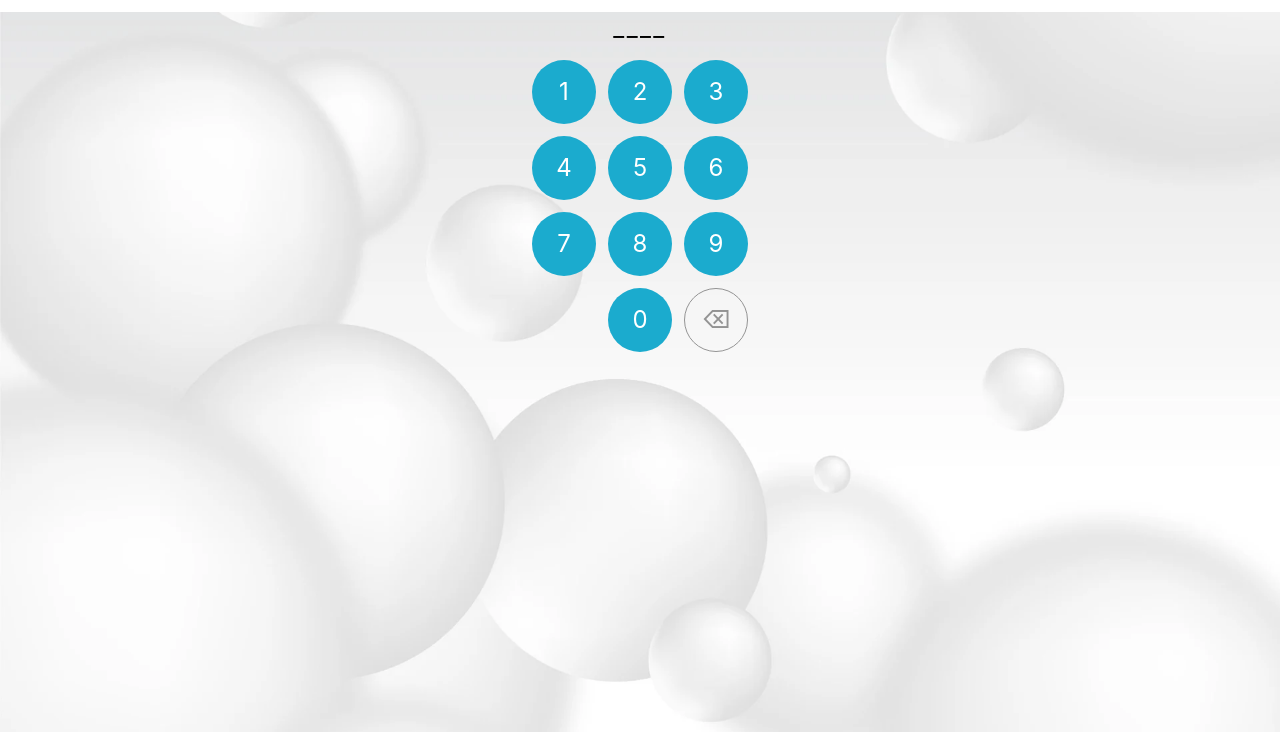
Scenario: PavePin › la touche Effacer est désactivée tant que rien n’est saisi
Check: the button named "Effacer" is disabled, box left=684, top=288, right=748, bottom=352
Click the button "1" at (564, 92), box left=532, top=60, right=596, bottom=124
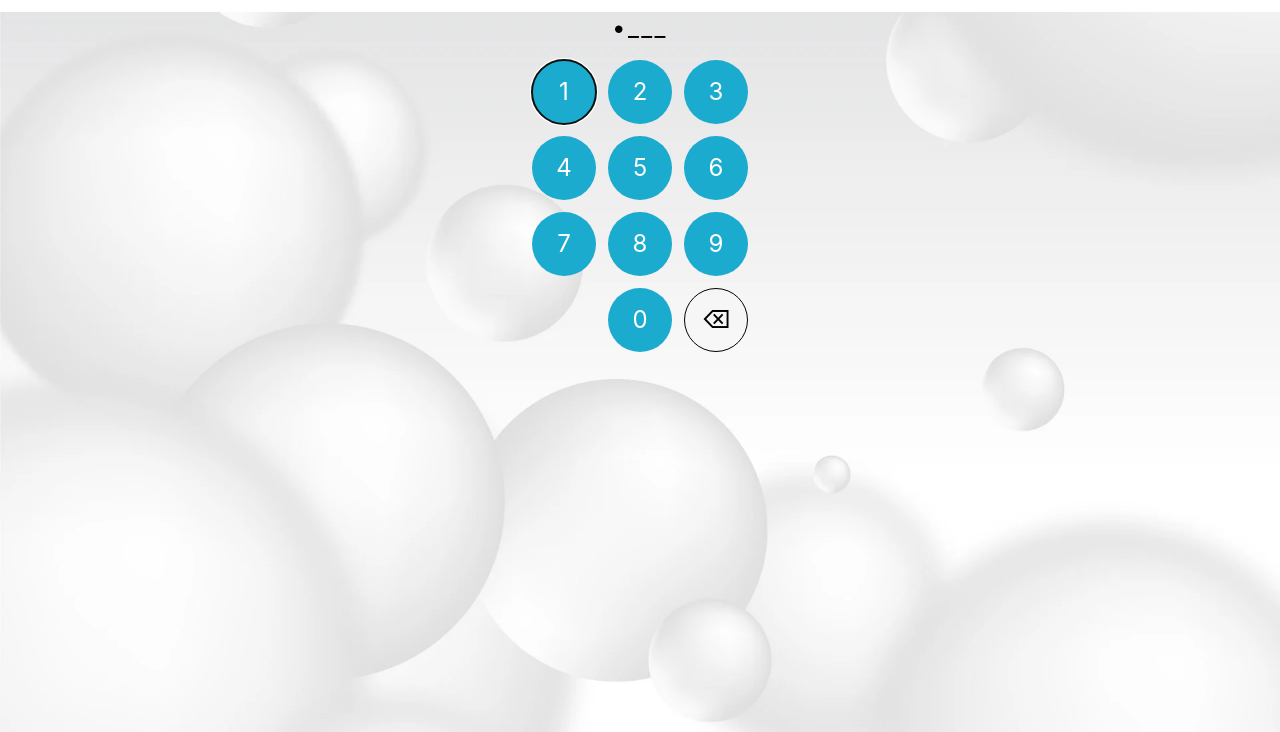
Check: the button named "Effacer" is enabled, box left=684, top=288, right=748, bottom=352
